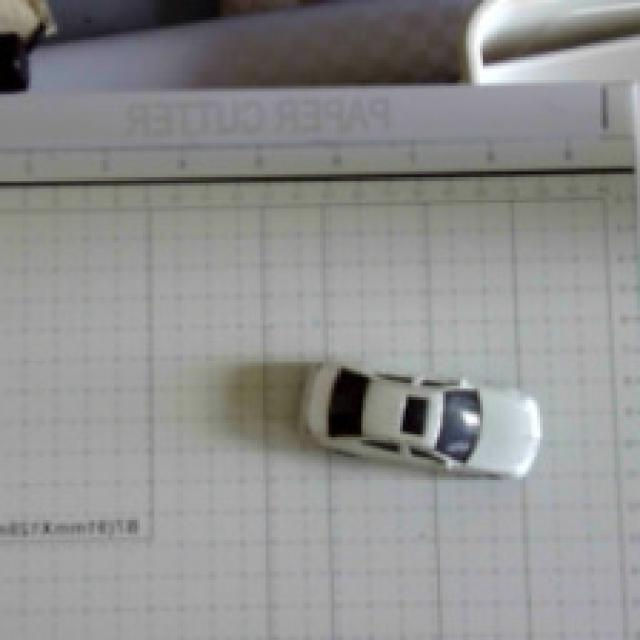Grey Car: (264, 330, 579, 518)
